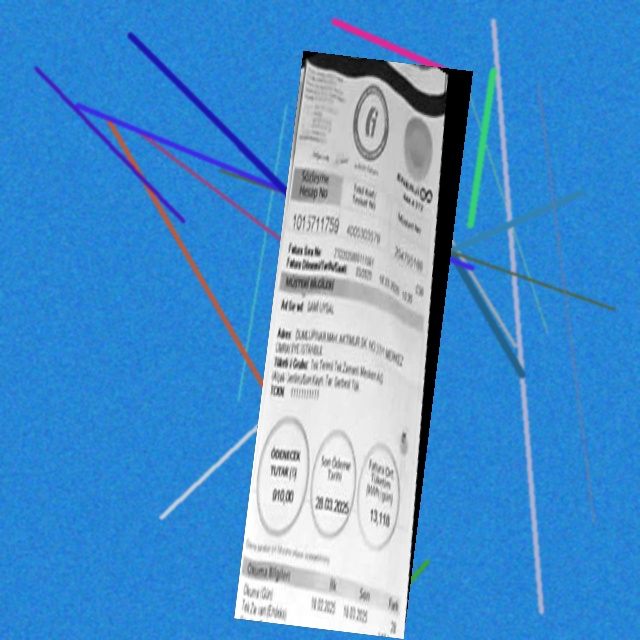electricity-bill: (233, 50, 472, 638)
